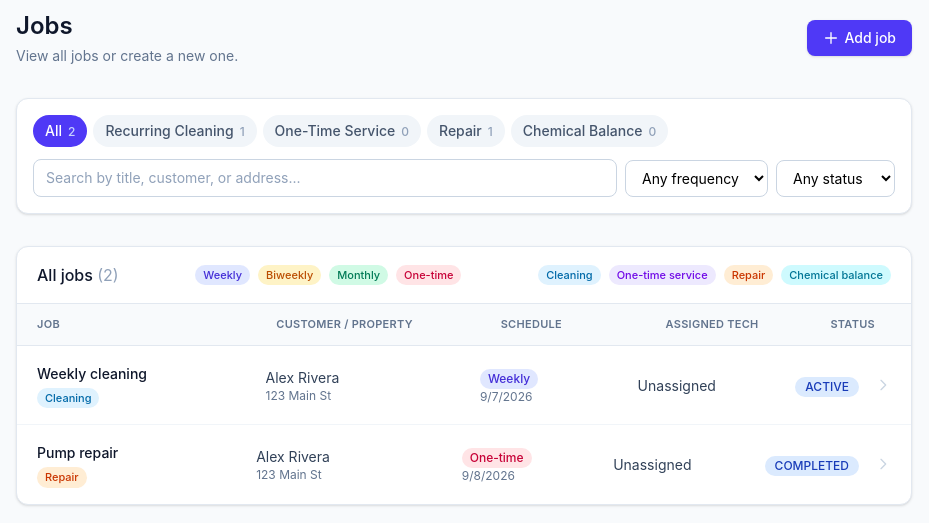
Jobs page filters › filters jobs by type and frequency while preserving the matching row
expect the text "Weekly cleaning" is shown: met, box [37,364,147,382]
expect the text "Pump repair" is shown: met, box [37,444,118,461]
Click the button "Repair1" at (466, 131), box [427,115,505,147]
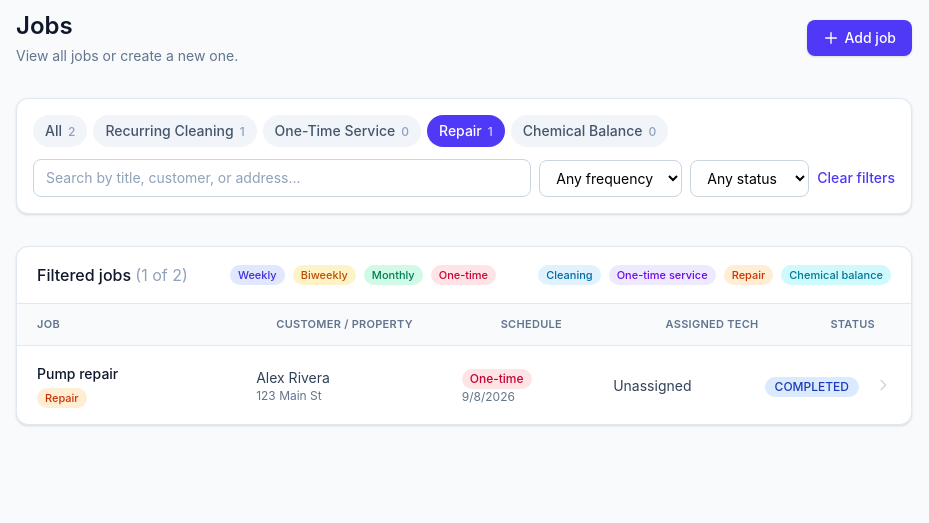
expect the text "Pump repair" is shown: met, box [37,364,118,382]
expect the button "Weekly cleaning" is gone: met
Click the button "All2" at (60, 131), box [33,115,87,147]
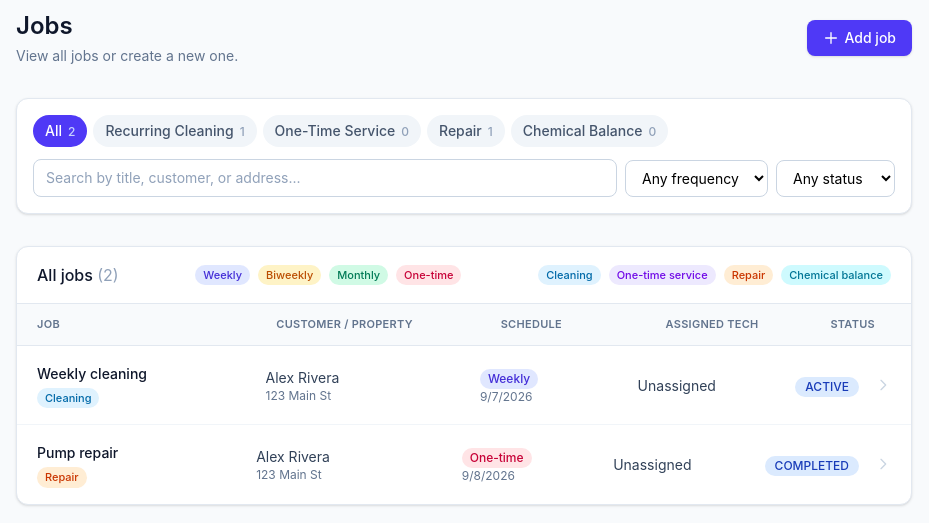
Select "Weekly" in the 1st dropdown showing "Any frequency" at (696, 178), box [625,160,768,196]
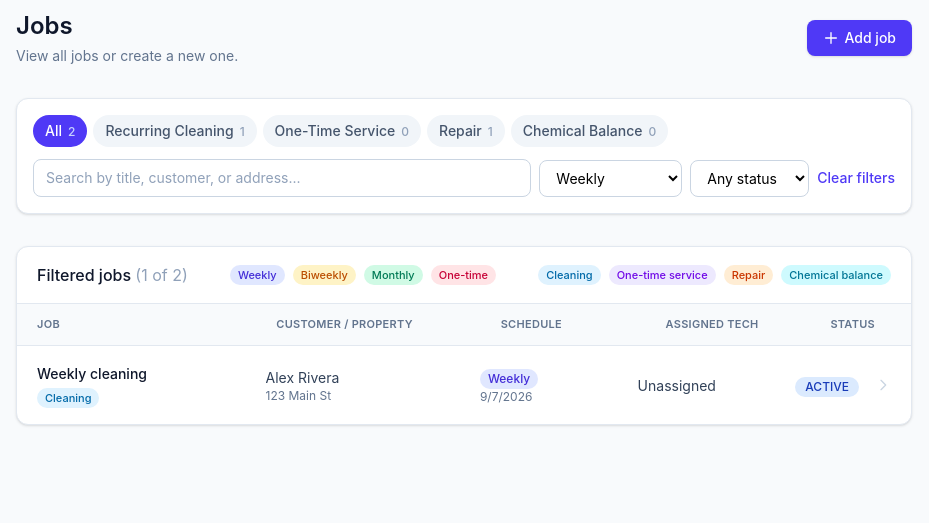
expect the text "Weekly cleaning" is shown: met, box [37,364,147,382]
expect the button "Pump repair" is gone: met
